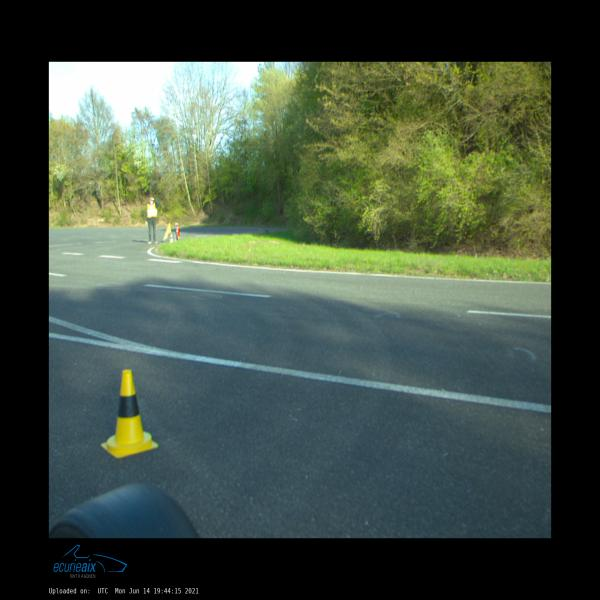yellow_cone: (102, 369, 158, 458), (169, 233, 174, 243)
